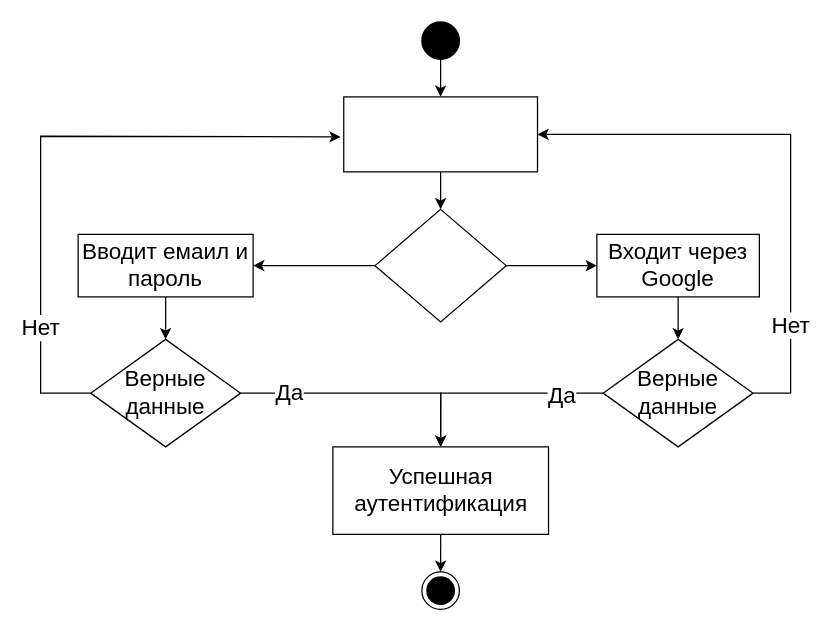
The diagram is 831 pixels wide and 631 high, and some of its shapes have lost their labels. The shapes that lost their labels are listed below. From the top down, each one's box as (x1, y1, x2, y2) in pixels, then its label:
(342, 96, 538, 172): Выбирает метод входа
(374, 208, 506, 322): Выбирает
